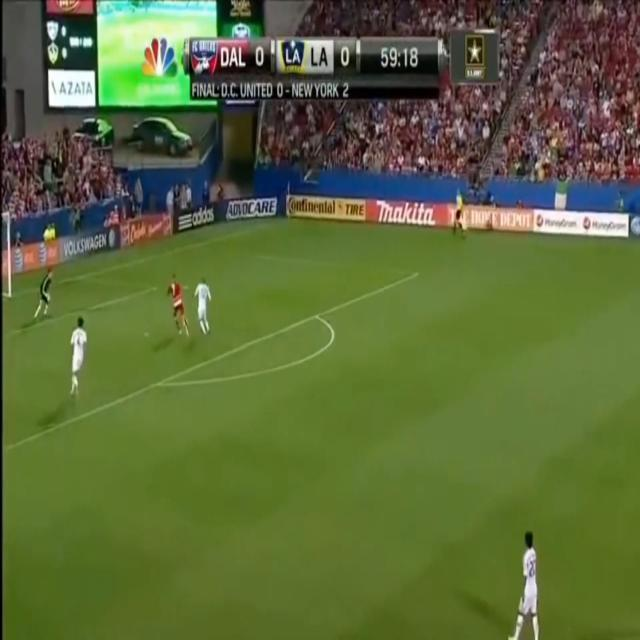player: (508, 521, 540, 640), (167, 272, 192, 341), (32, 266, 57, 333), (71, 316, 89, 407), (196, 273, 213, 339)
